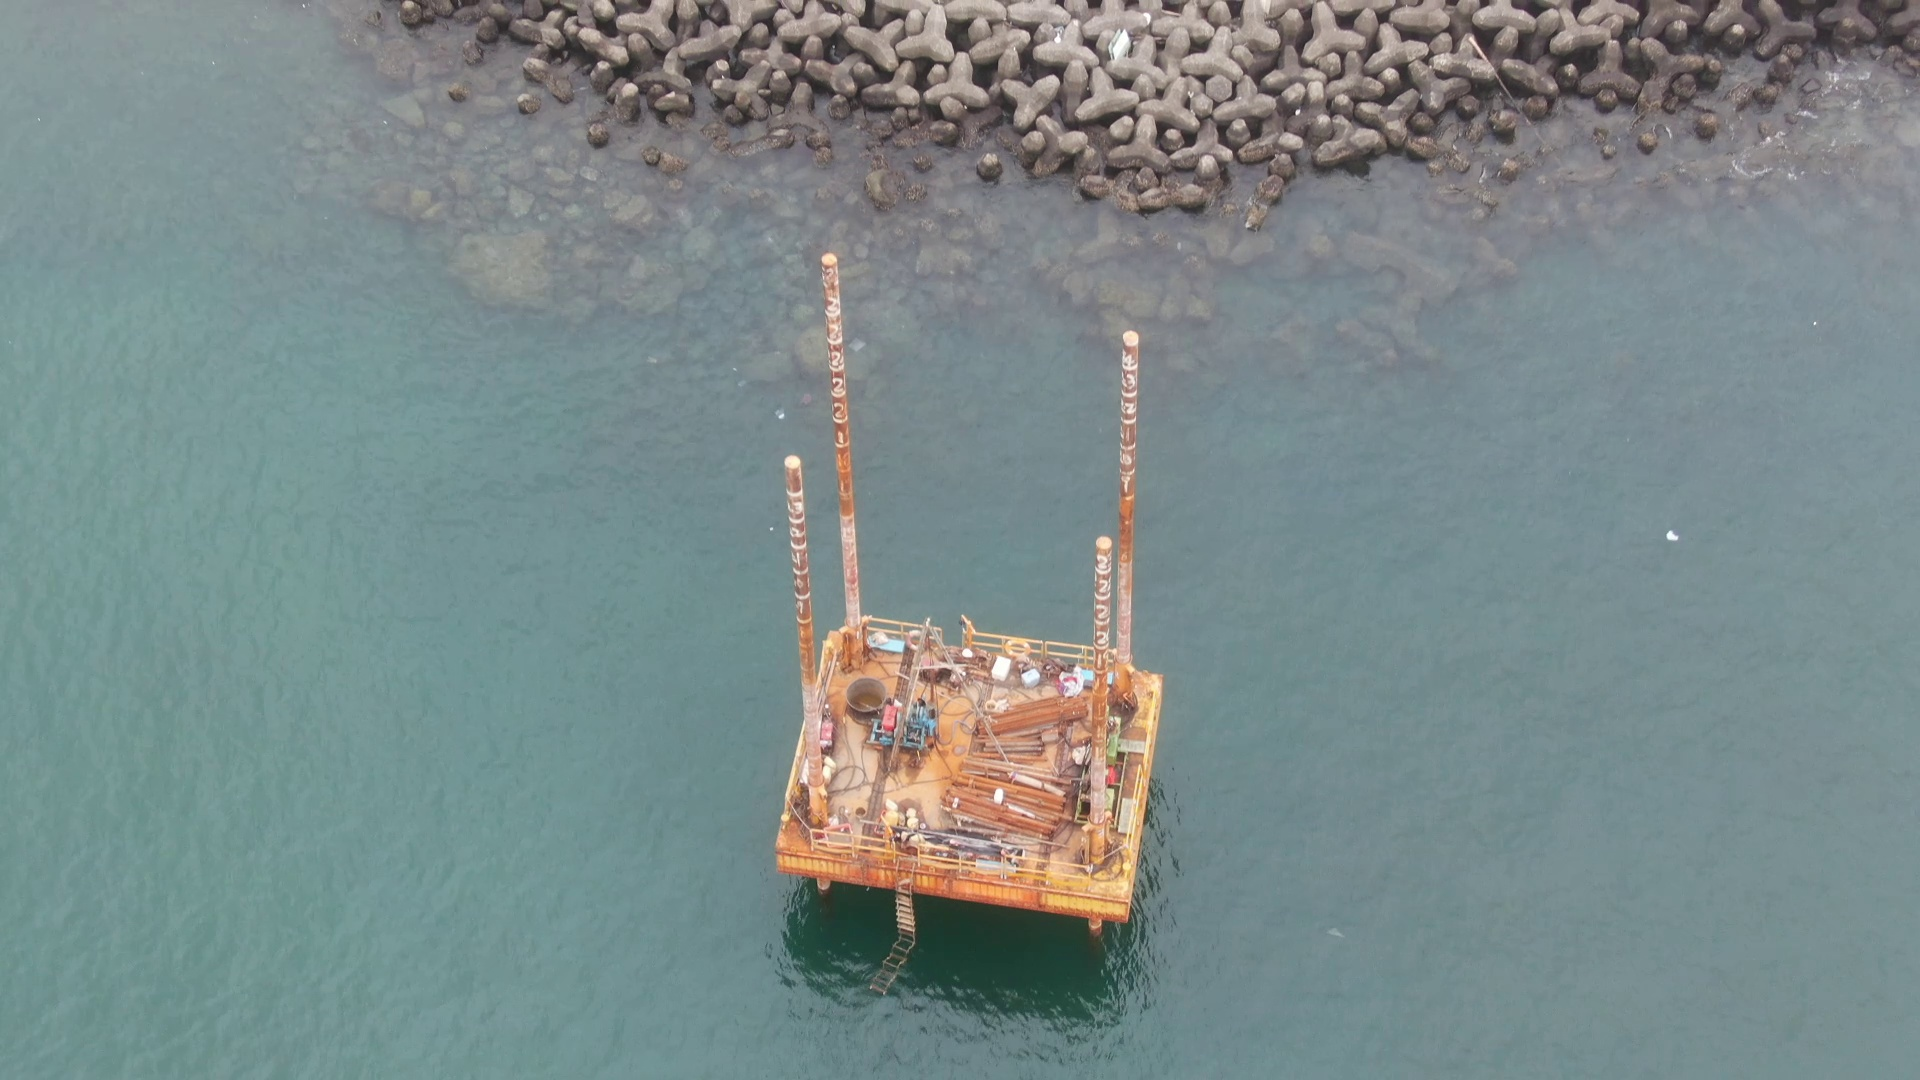garbage: (1095, 26, 1143, 76)
